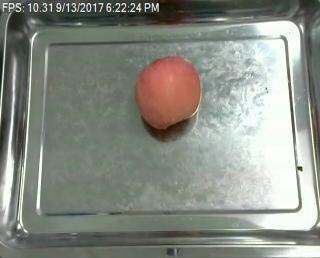apple: (135, 56, 201, 130)
